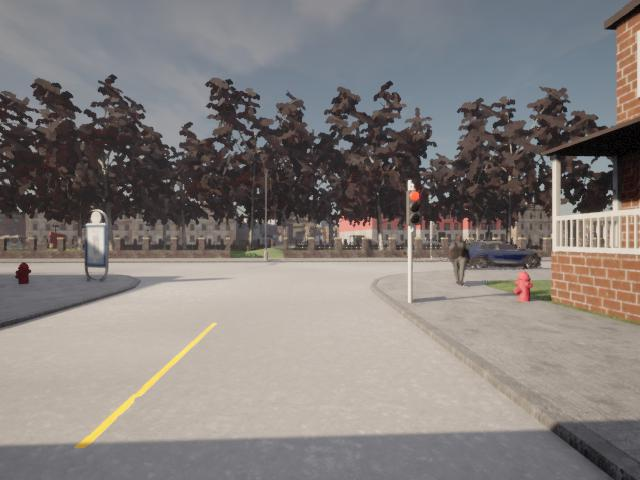5: (408, 189, 422, 223)
9: (468, 240, 540, 269)
vehicle: (449, 238, 469, 286)
